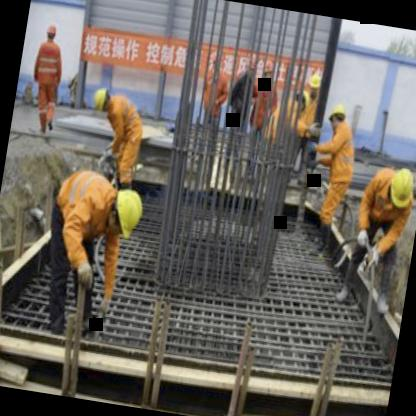helmet: (106, 186, 146, 240), (381, 164, 416, 221), (324, 96, 349, 132), (88, 80, 115, 112), (240, 48, 260, 79), (305, 68, 324, 100), (42, 16, 60, 44), (293, 84, 311, 112), (260, 56, 276, 82)
